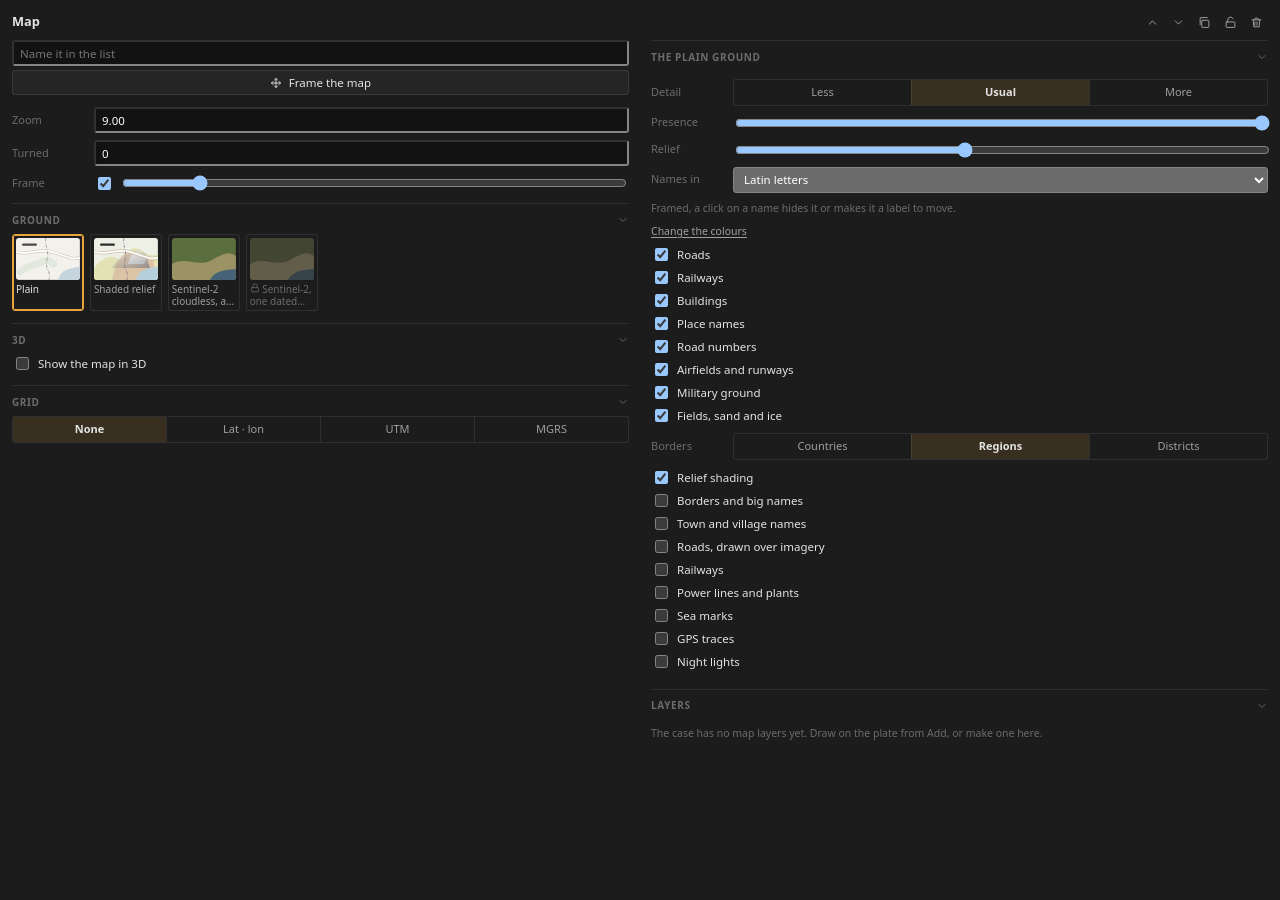
the ground, the type and the layers of a plate › sets a plain ground's detail, presence and borders, its colours folded until asked
Click the button "Less" at (822, 92), box [734,80,911,104]
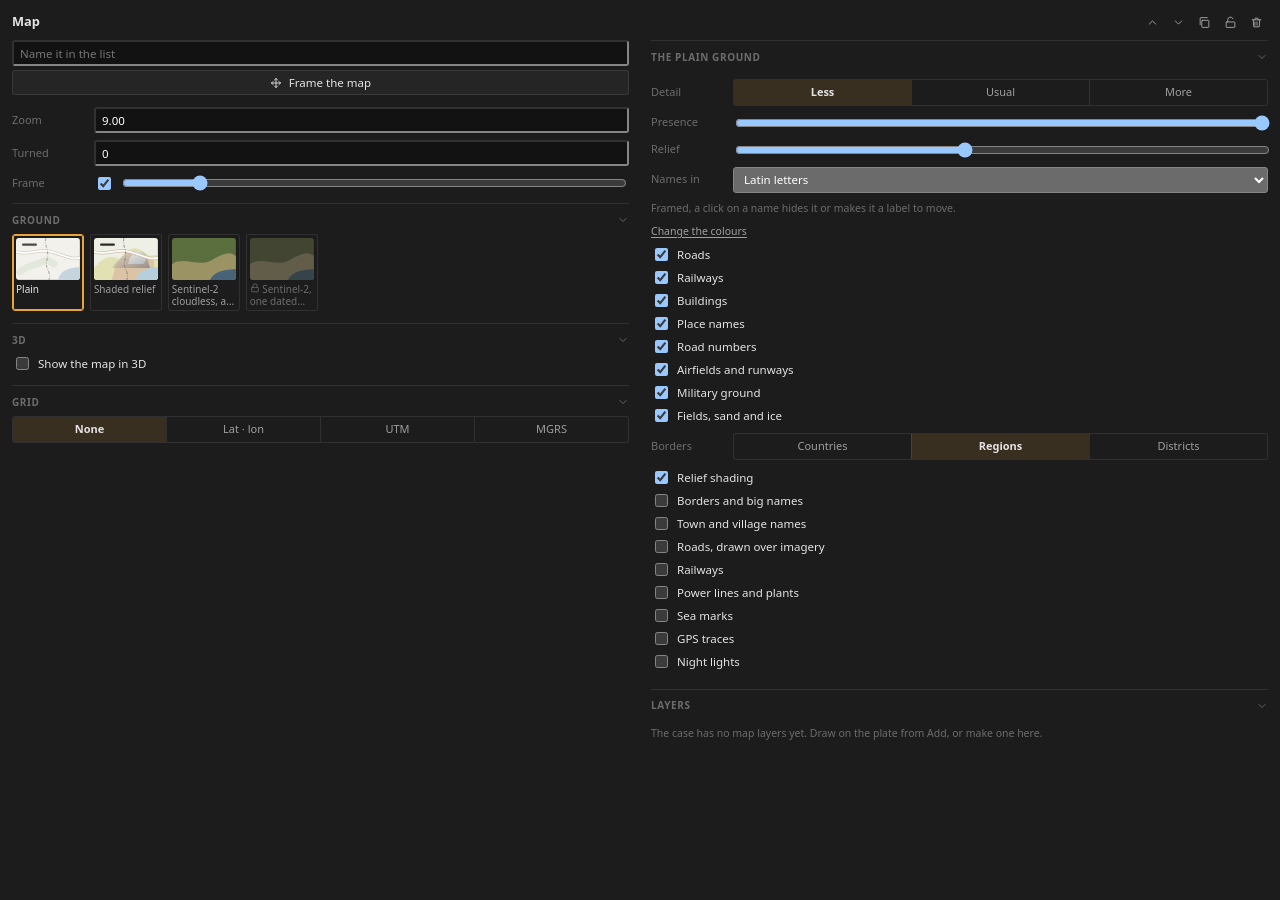
Set the slider named "Ground presence" to "0.5" at (938, 122), box [735,114,1270,130]
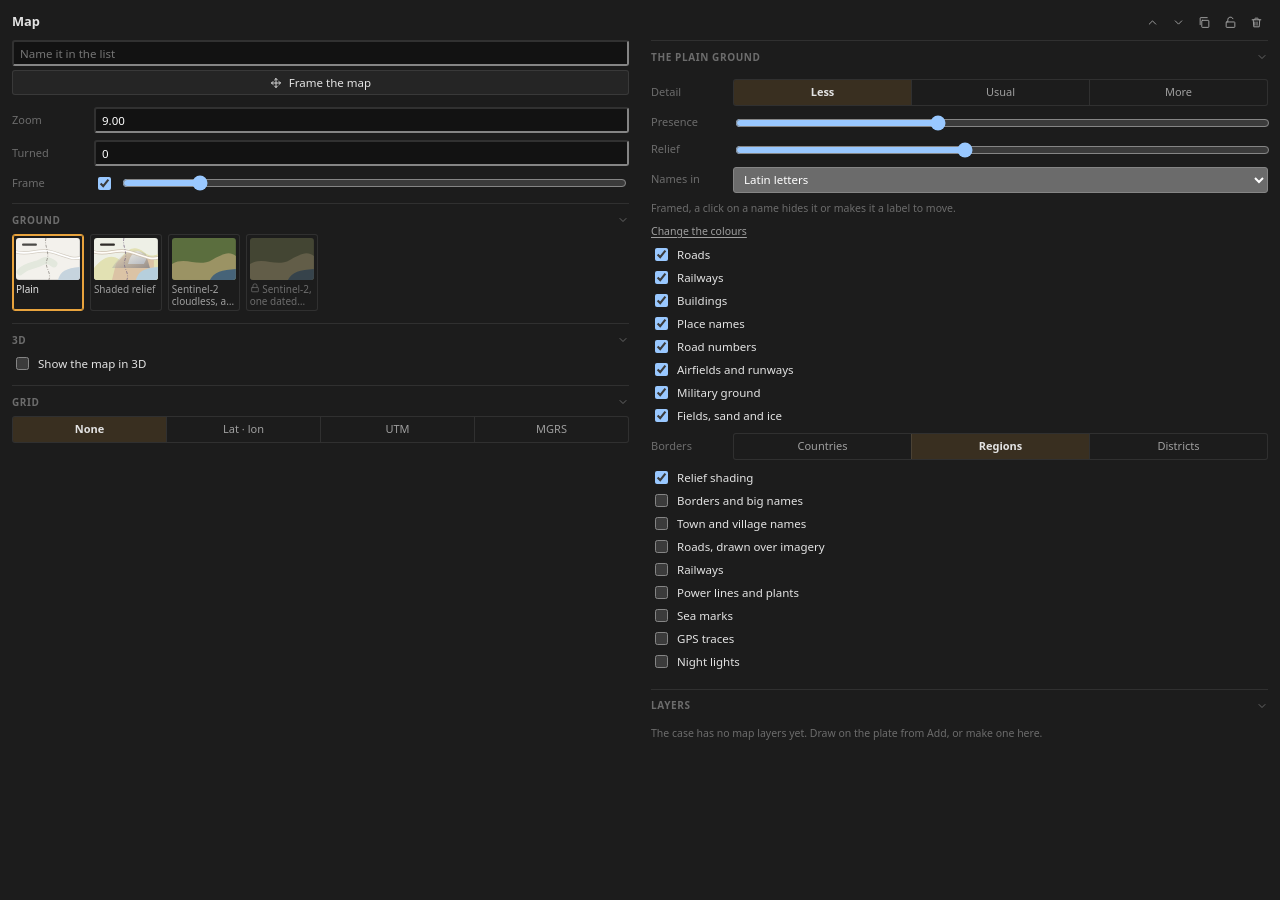
Click the button "Districts" at (1178, 447), box [1089,434,1267,459]
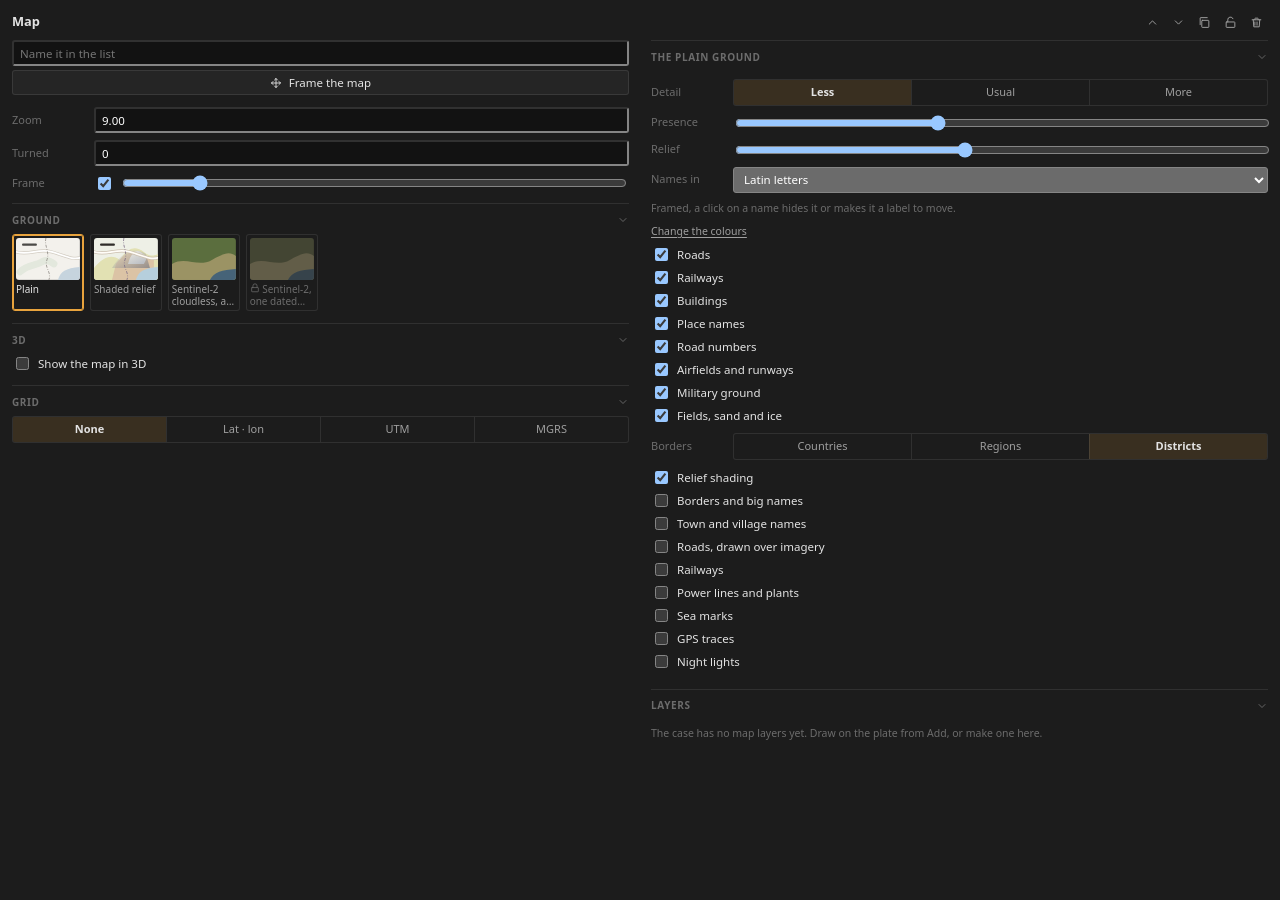
Click the button "Change the colours" at (699, 232), box [651,224,747,240]
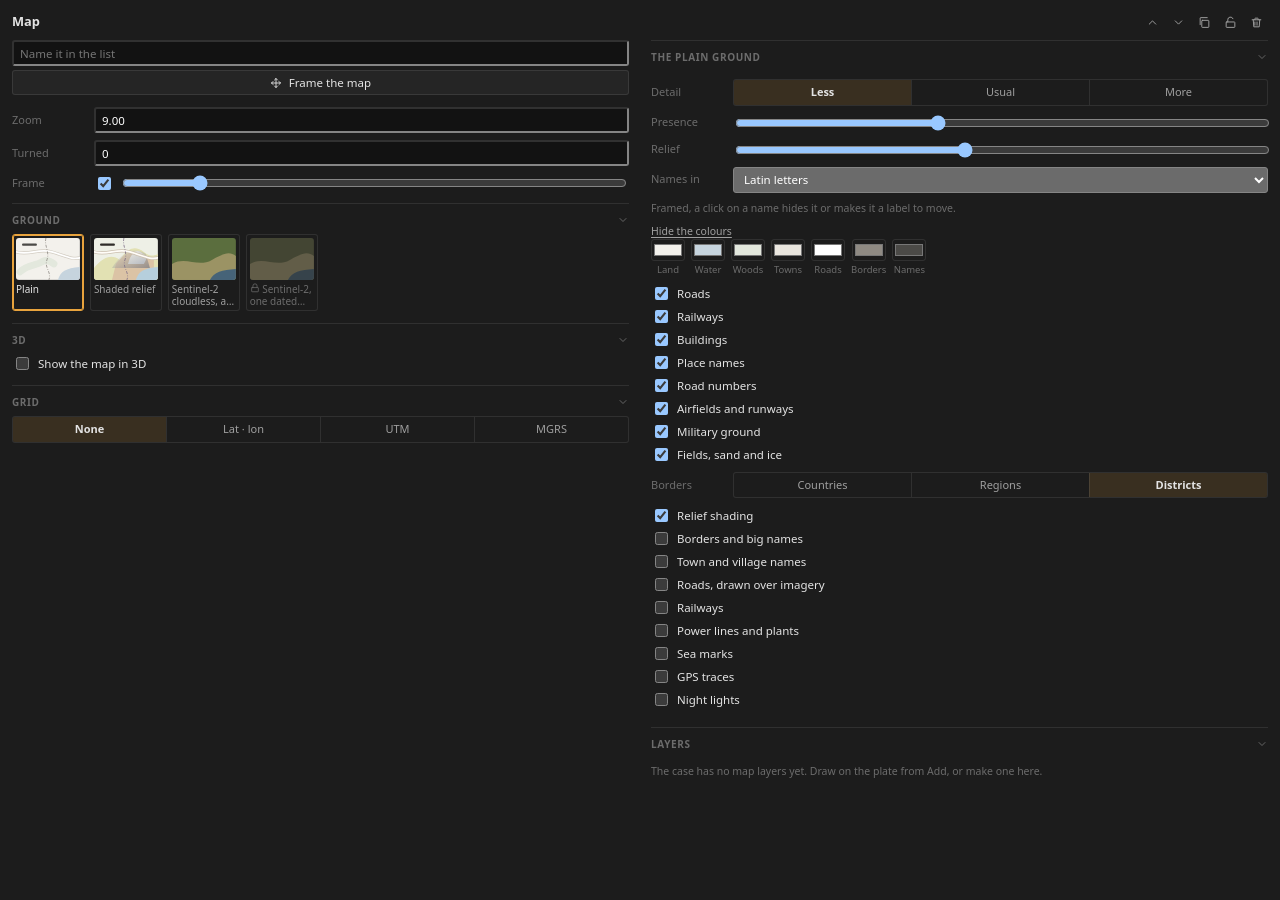
Expected: the colour field named "Land colour" is shown, [651,240,685,262]
